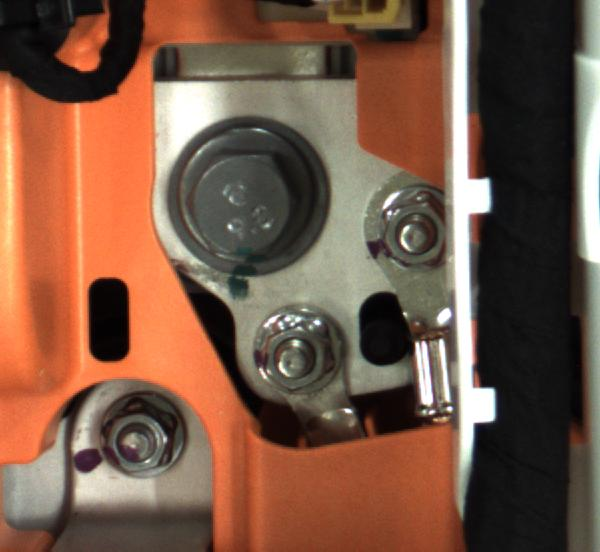nut_b: (164, 118, 322, 272)
screw_s: (250, 305, 358, 407), (368, 190, 448, 265)
